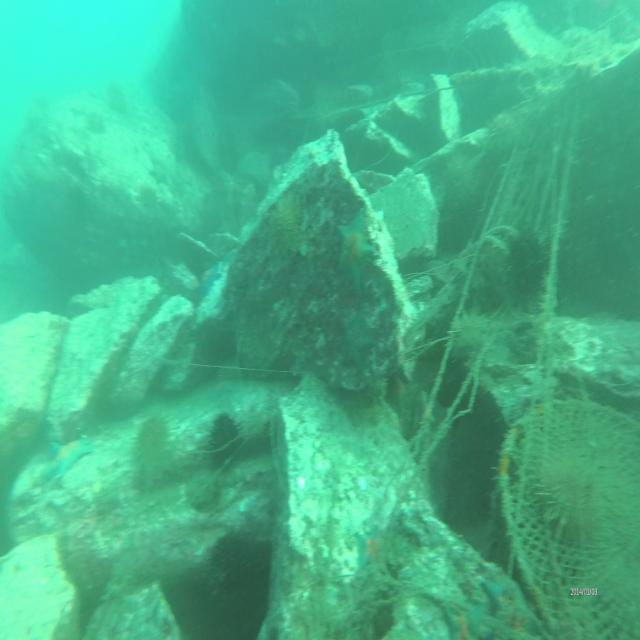echinus: (136, 411, 172, 465), (212, 412, 242, 463)
starfish: (339, 211, 373, 289), (48, 430, 92, 486), (200, 258, 222, 298)
